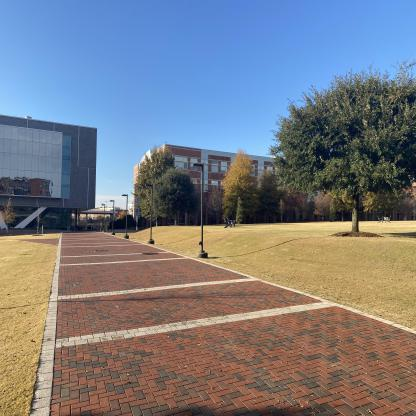EB-1: (128, 138, 388, 233)
